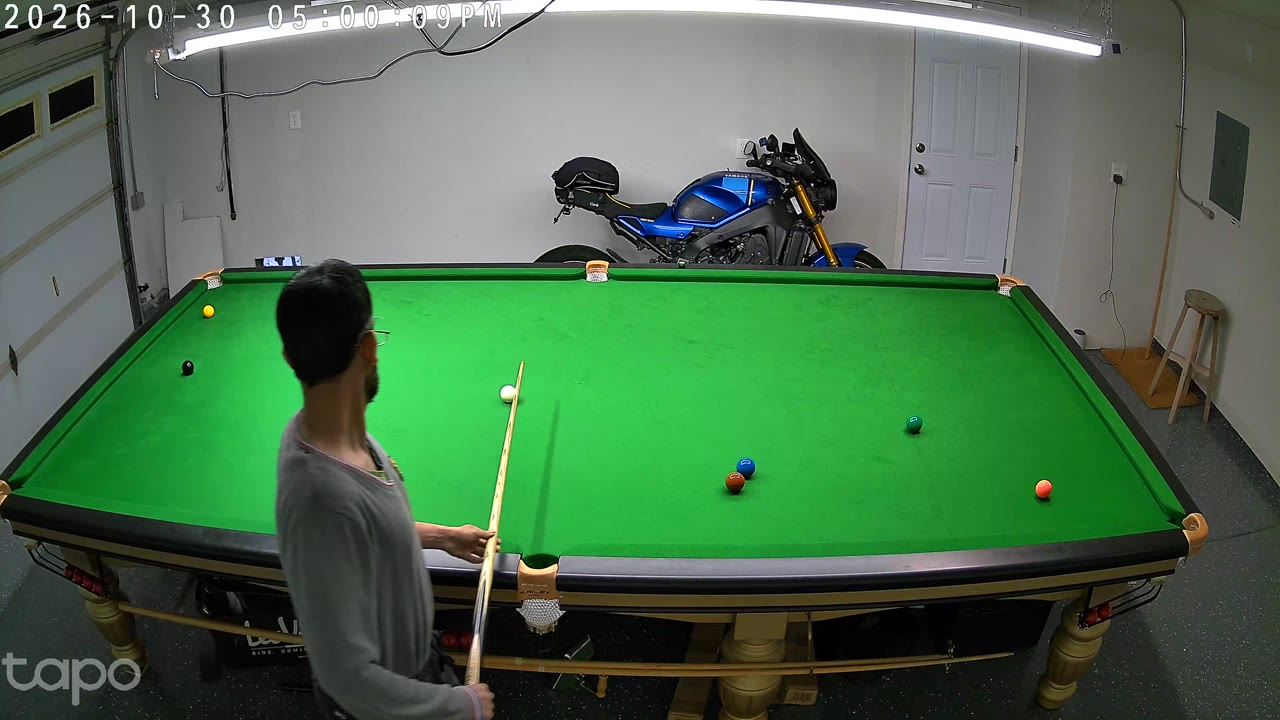black: (182, 359, 194, 378)
blue: (737, 455, 756, 482)
brown: (726, 472, 743, 496)
green: (906, 414, 922, 435)
pink: (1035, 477, 1052, 502)
white: (500, 384, 513, 404)
yellow: (203, 304, 214, 320)
